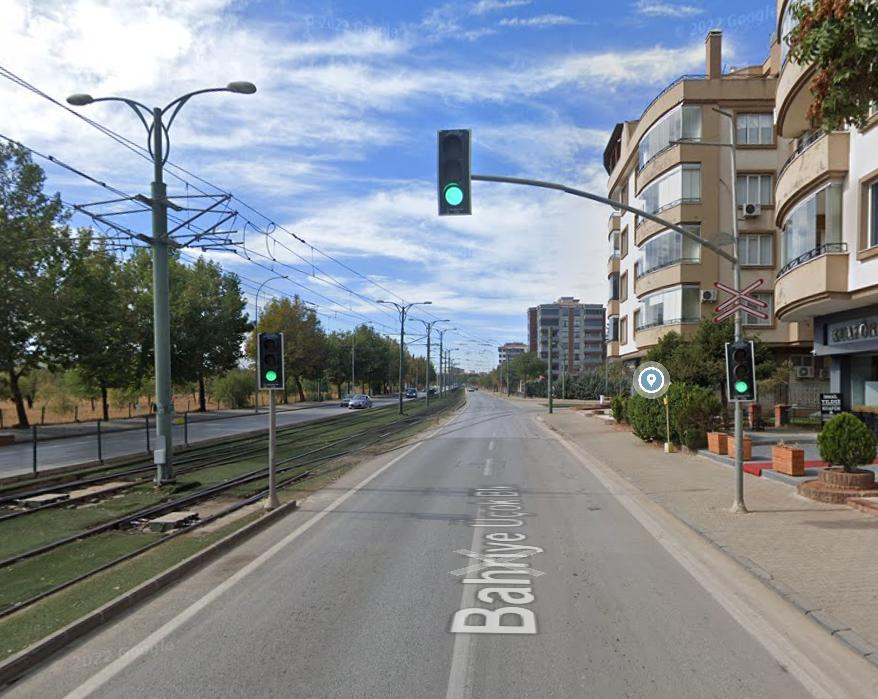greenlight: (436, 125, 470, 216), (726, 342, 755, 402), (260, 327, 283, 392)
